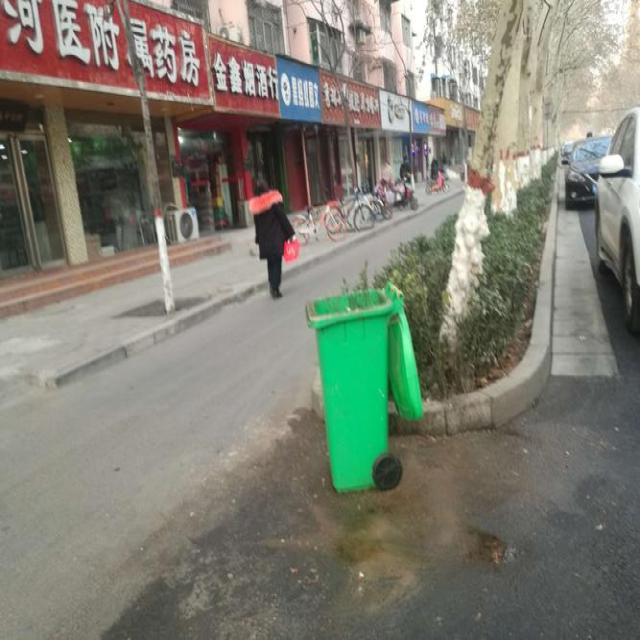garbage_bin: (304, 280, 423, 490)
